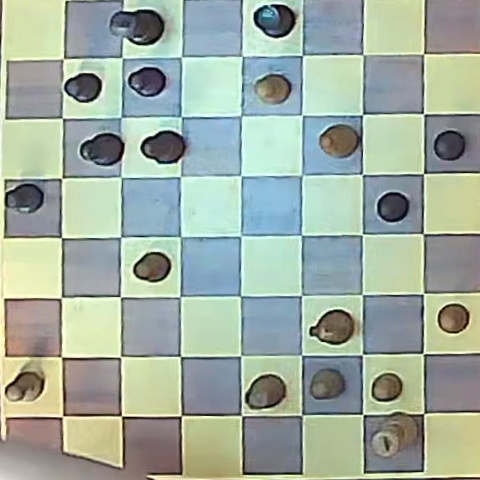black-bishop: (77, 132, 127, 167), (141, 130, 185, 164)
black-king: (111, 9, 163, 46)
black-pawn: (63, 72, 102, 102), (127, 67, 166, 97), (5, 183, 44, 213), (376, 191, 409, 222), (433, 130, 466, 161)
black-rook: (253, 3, 294, 38)
white-bishop: (319, 124, 359, 158)
white-king: (370, 415, 417, 459)
white-knight: (309, 310, 354, 346)
white-pawn: (5, 371, 45, 403), (133, 252, 171, 283), (309, 369, 345, 400), (254, 74, 290, 104), (437, 303, 469, 333), (371, 373, 403, 402)
white-rook: (245, 374, 286, 409)
